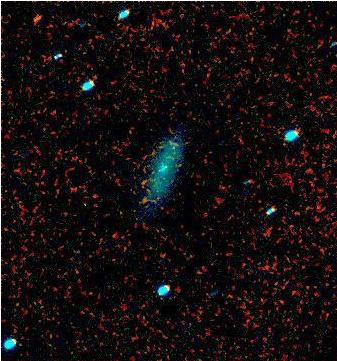star: (19, 4, 49, 34)
